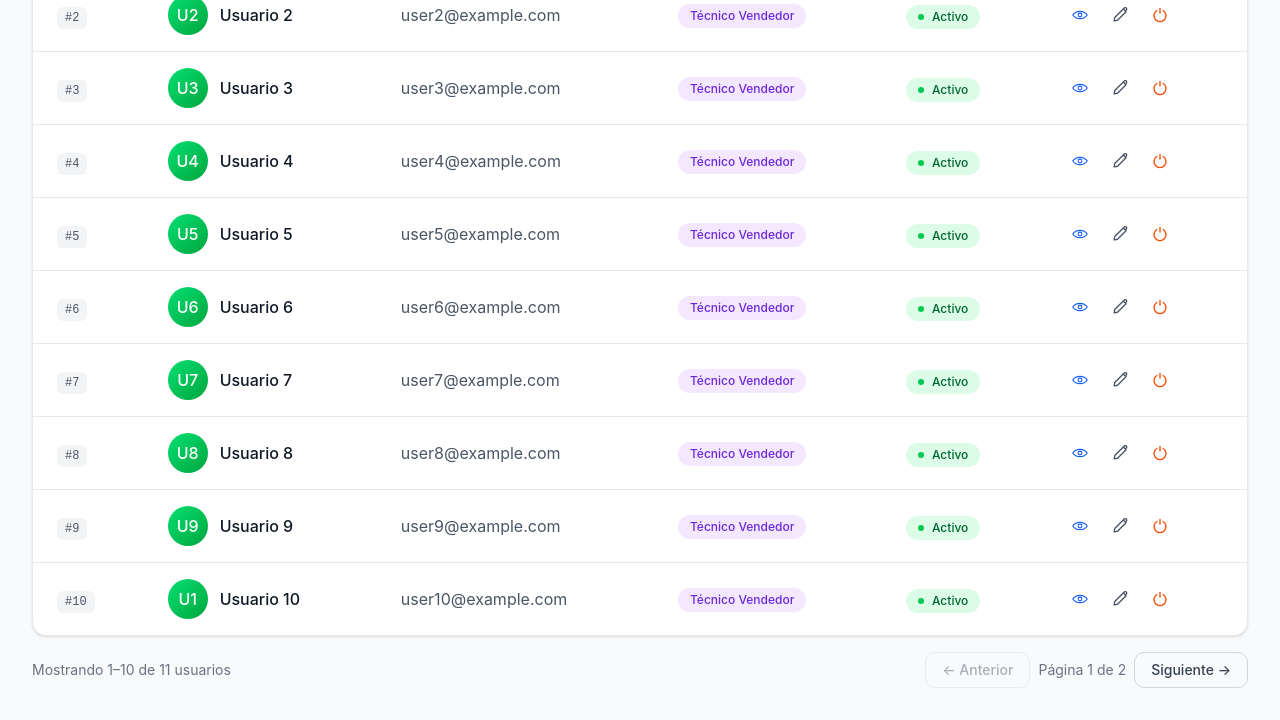
it: GestionUsuariosPanel › enables next button and navigates when multiple pages exist
The width and height of the screenshot is (1280, 720).
(page scrolled)
Expected: the text with test id "pagination-info" reads "Página 1 de 2", [1038, 660, 1126, 680]
Click the button with test id "pagination-next" at (1191, 670), box [1134, 652, 1248, 688]
(page scrolled)
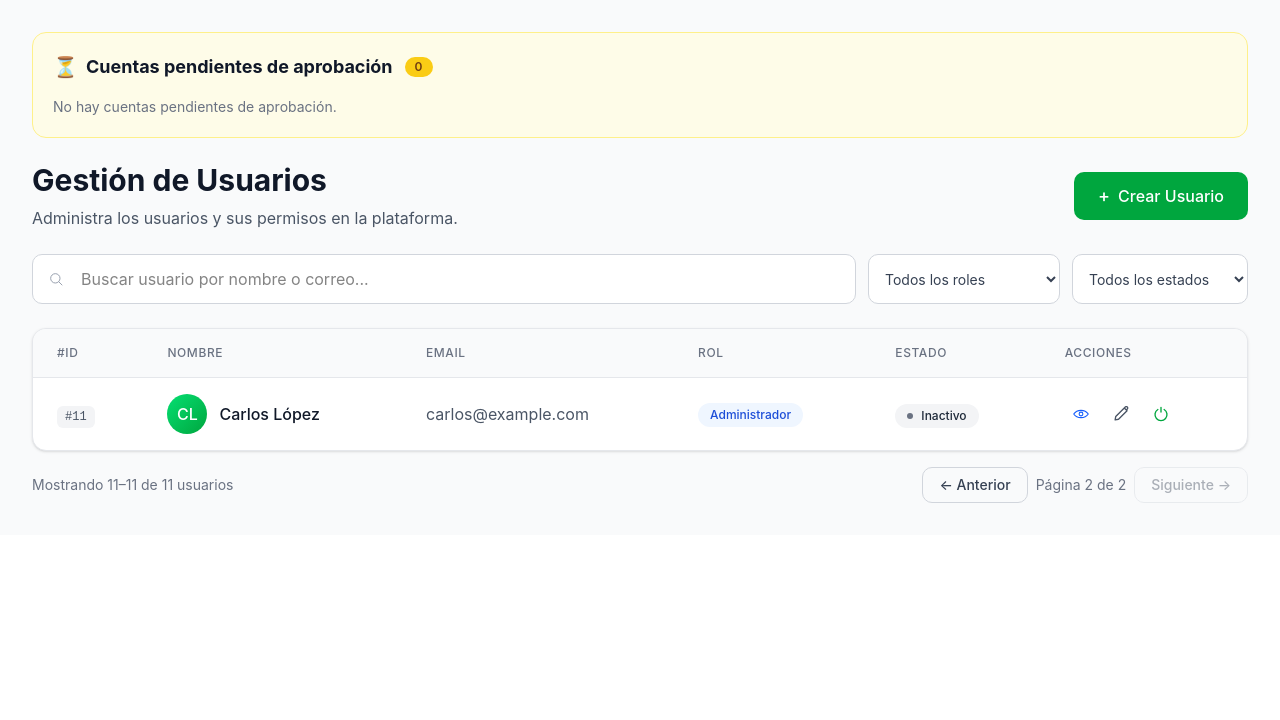
Expected: the text with test id "pagination-info" reads "Página 2 de 2", [1036, 475, 1126, 495]
Expected: the button with test id "pagination-next" is disabled, [1134, 467, 1248, 503]
Expected: the button with test id "pagination-prev" is enabled, [922, 467, 1028, 503]
